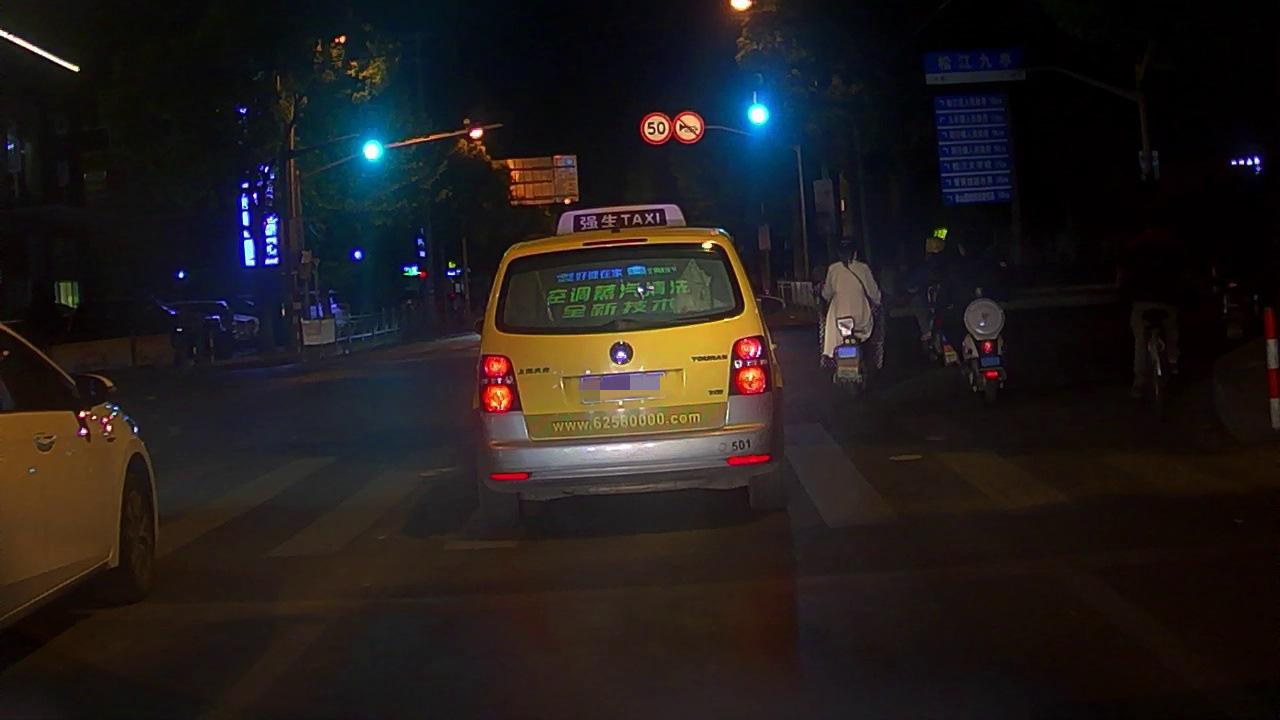traffic_light: (360, 109, 386, 169), (744, 97, 773, 130)
